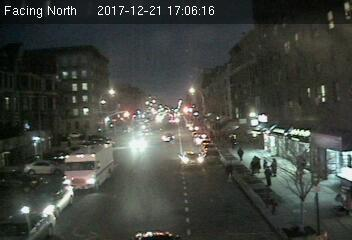car: (19, 180, 75, 224), (179, 150, 204, 169)
pedestrian: (263, 164, 274, 187), (225, 161, 234, 183), (236, 147, 244, 162)
truck: (63, 143, 113, 191)
